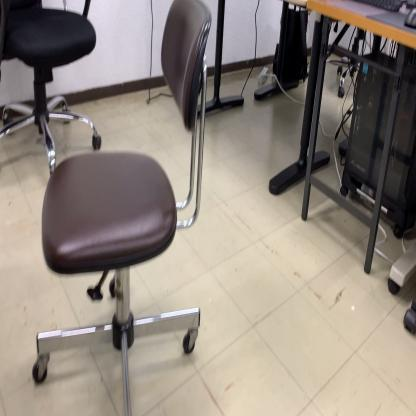chair: (31, 1, 213, 416), (0, 0, 106, 181)
